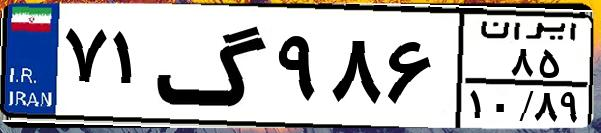0: (495, 70, 520, 125)
1: (110, 28, 156, 98), (470, 70, 495, 125)
5: (537, 27, 568, 80)
6: (385, 28, 445, 110)
7: (57, 26, 110, 100)
8: (330, 28, 385, 110), (508, 27, 537, 80), (535, 70, 560, 125)
9: (270, 28, 330, 110), (560, 70, 590, 125)
گ: (156, 12, 270, 120)
